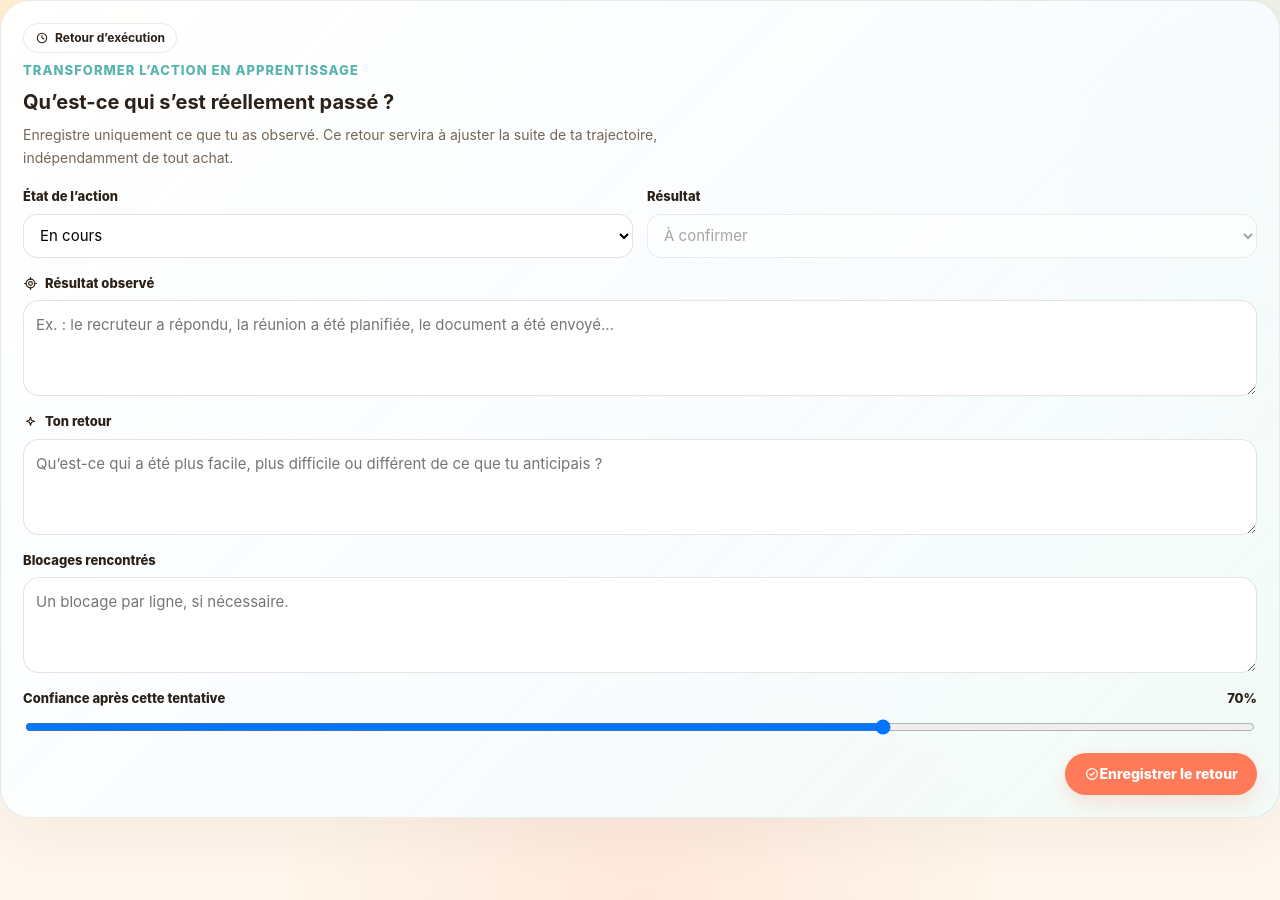
ExecutionFeedbackForm › requires an observed result when the outcome is known
Select "Terminée" in the dropdown labelled "État de l’action": (328, 236) [23,214,633,258]
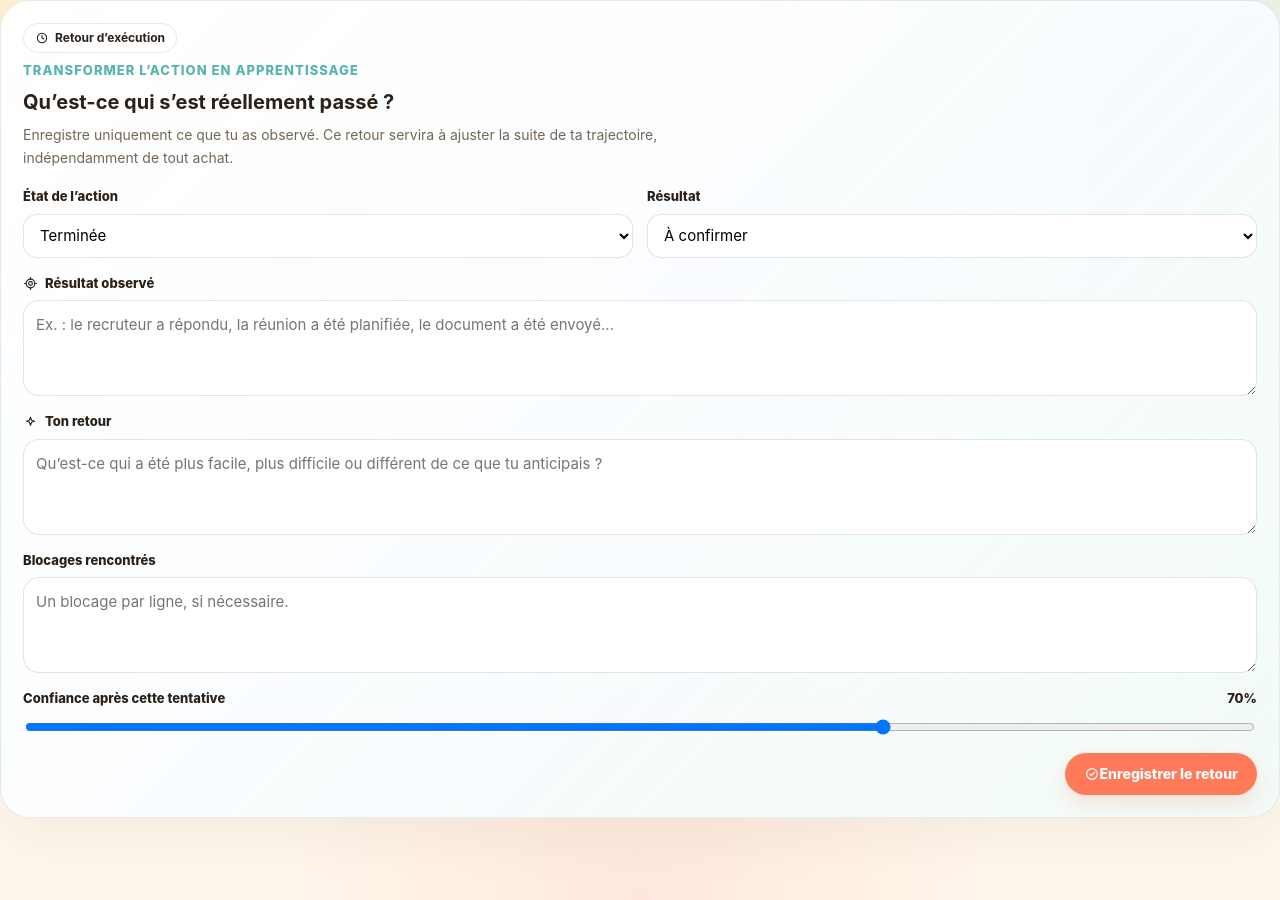
Select "Atteint" in the dropdown labelled "Résultat": (952, 236) [647,214,1257,258]
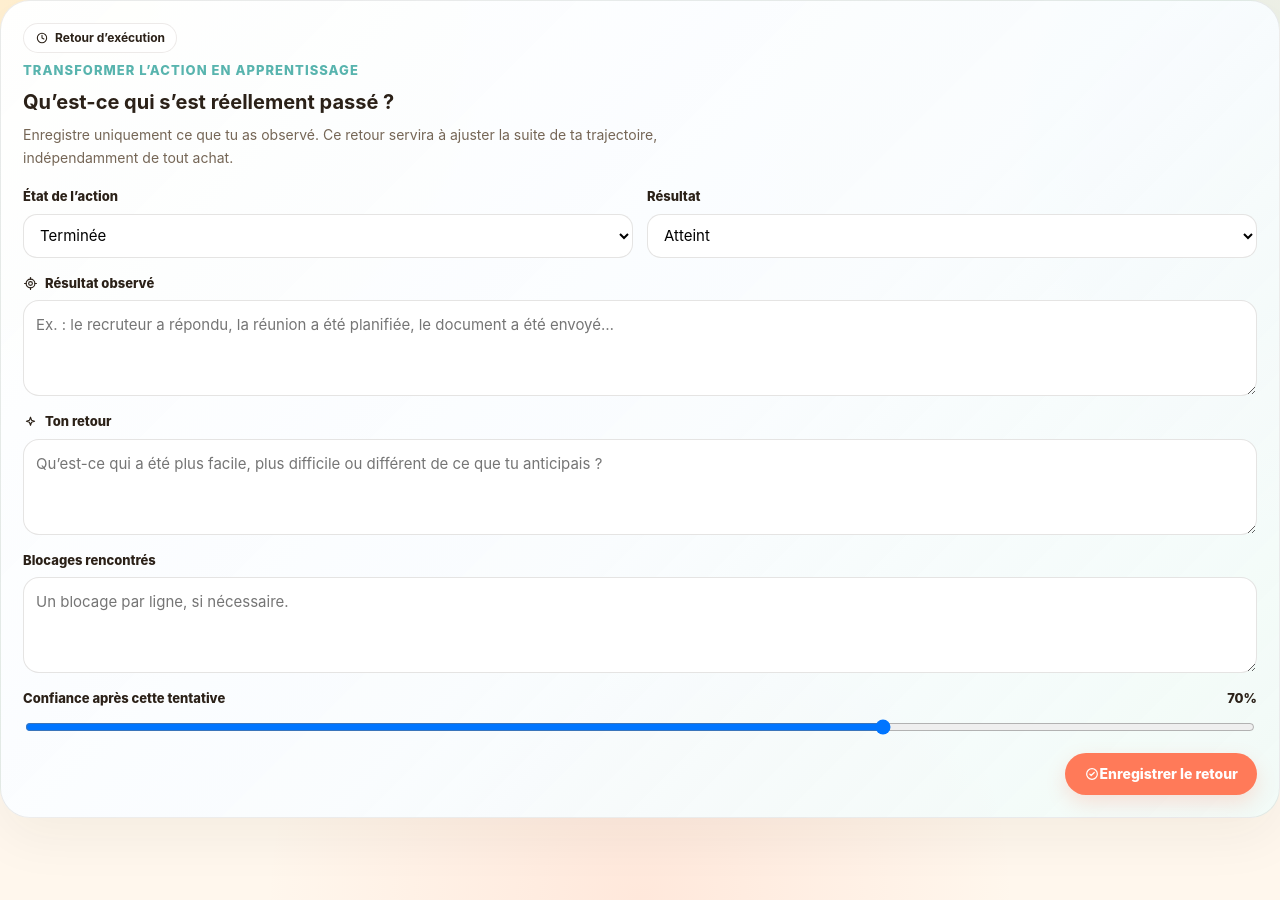
Click the button "Enregistrer le retour": (1161, 774) [1065,753,1257,795]
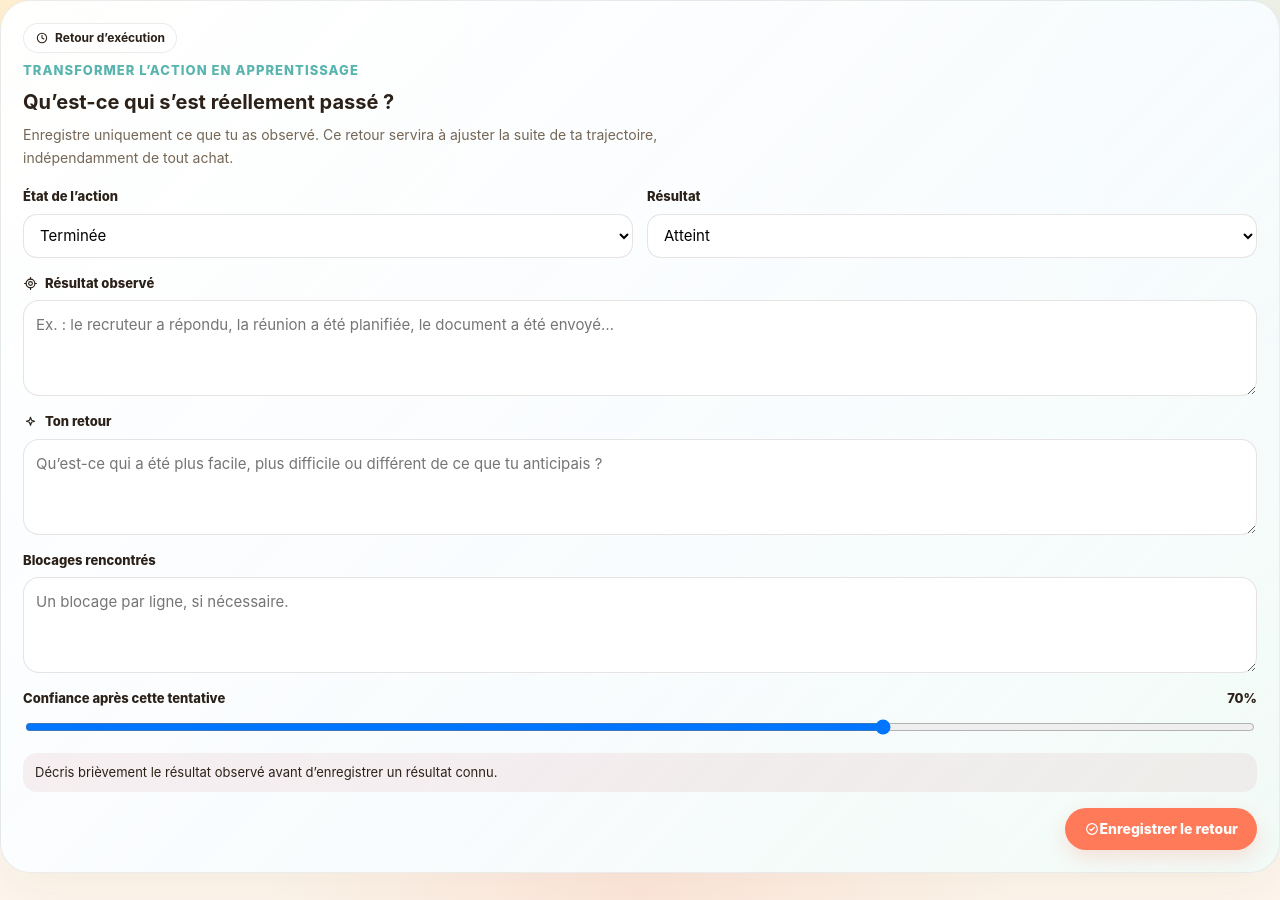
Now the message reads "Décris brièvement le résultat observé avant d’enregistrer un résultat connu.", box [35,764,497,780]
